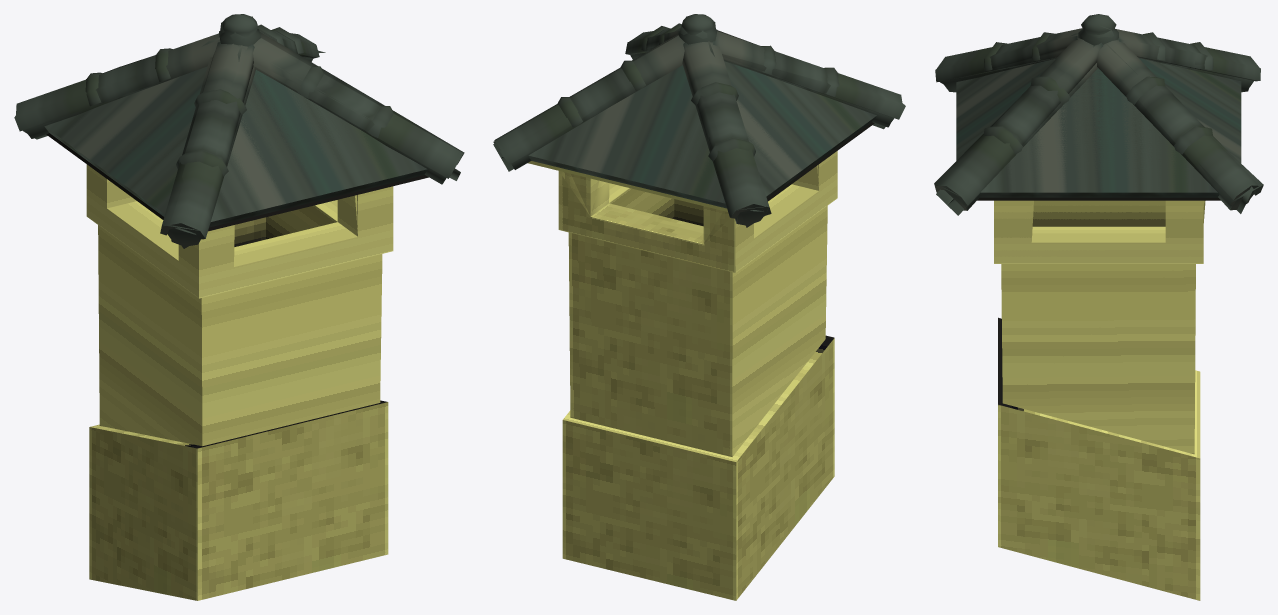
Rendered from objects_un_t03chimney01.gltf.
The picture shows the model from 3 angles, left to right: view 1: azimuth 30°, elevation 25°; view 2: azimuth 150°, elevation 25°; view 3: azimuth 270°, elevation 25°; orthographic projection. The views are drawn at different scales.
Visible parts, largest first — view 1: um_objects_un_t03chimney01_model_lod0Shape:objects_un_t03chi (×2), um_objects_un_t03chimney01_model_lod2Shape:objects_un_t03chi (×2), um_objects_un_t03chimney01_model_lod1Shape:objects_un_t03chi (×2); view 2: um_objects_un_t03chimney01_model_lod0Shape:objects_un_t03chi (×2), um_objects_un_t03chimney01_model_lod2Shape:objects_un_t03chi (×2), um_objects_un_t03chimney01_model_lod1Shape:objects_un_t03chi (×2); view 3: um_objects_un_t03chimney01_model_lod0Shape:objects_un_t03chi (×2), um_objects_un_t03chimney01_model_lod2Shape:objects_un_t03chi (×2), um_objects_un_t03chimney01_model_lod1Shape:objects_un_t03chi (×2).
Part boxes in pixels (<box>): um_objects_un_t03chimney01_model_lod0Shape:objects_un_t03chi (×2): <box>16,14,463,600</box>; um_objects_un_t03chimney01_model_lod2Shape:objects_un_t03chi (×2): <box>14,31,464,437</box>; um_objects_un_t03chimney01_model_lod1Shape:objects_un_t03chi (×2): <box>16,16,463,264</box>; um_objects_un_t03chimney01_model_lod0Shape:objects_un_t03chi (×2): <box>494,14,901,600</box>; um_objects_un_t03chimney01_model_lod2Shape:objects_un_t03chi (×2): <box>493,30,905,446</box>; um_objects_un_t03chimney01_model_lod1Shape:objects_un_t03chi (×2): <box>495,16,902,242</box>; um_objects_un_t03chimney01_model_lod0Shape:objects_un_t03chi (×2): <box>936,14,1259,600</box>; um_objects_un_t03chimney01_model_lod2Shape:objects_un_t03chi (×2): <box>934,33,1263,443</box>; um_objects_un_t03chimney01_model_lod1Shape:objects_un_t03chi (×2): <box>936,25,1261,262</box>.
Size of the model in its own units: 2.82 by 5.06 by 2.79.
2 materials, 2 textured.
